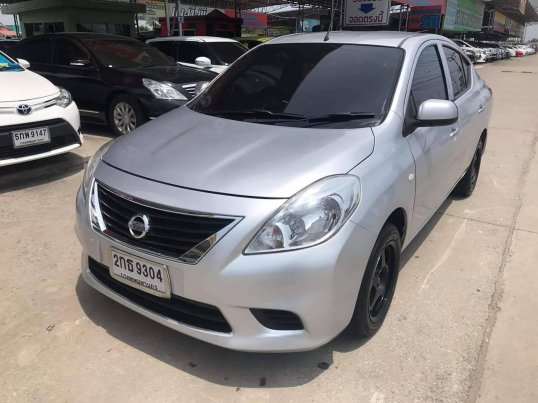sedan: (76, 29, 495, 352)
